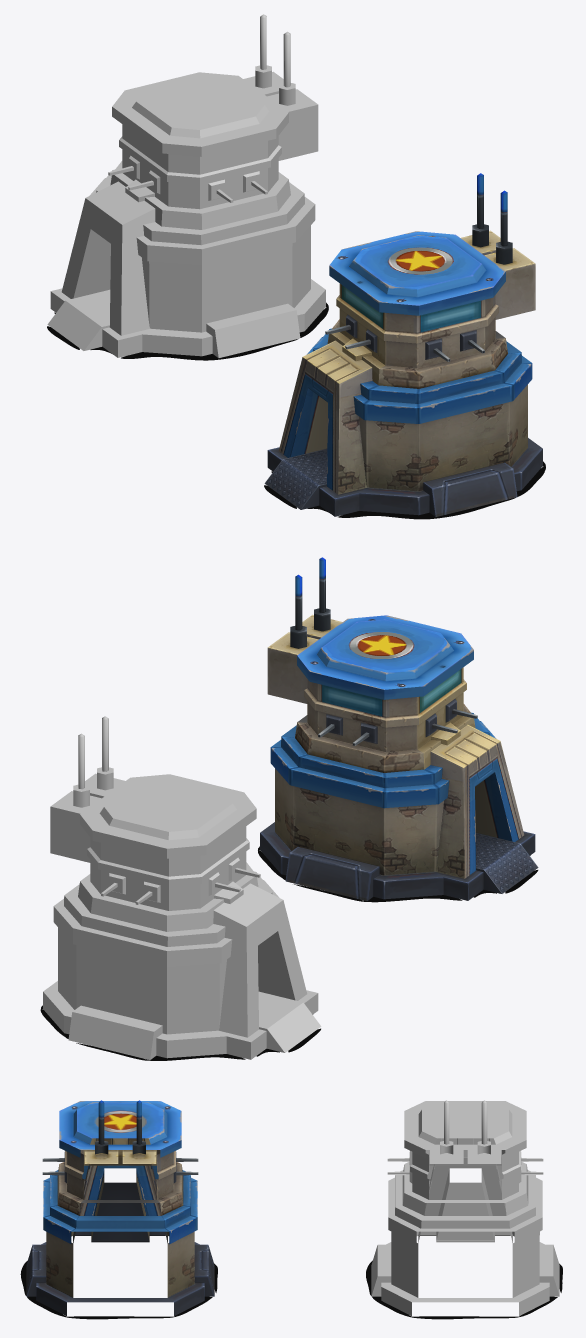
File: tower.fbx
The picture shows the model from 3 angles, top to bottom: view 1: azimuth 30°, elevation 25°; view 2: azimuth 150°, elevation 25°; view 3: azimuth 270°, elevation 25°; orthographic projection. The views are drawn at different scales.
Visible parts, largest first — view 1: tower_blue, tower_red; view 2: tower_blue, tower_red; view 3: tower_blue, tower_red.
Boxes of the visible parts, left/top/right/bottom form: tower_blue: left=264, top=173, right=545, bottom=519; tower_red: left=47, top=14, right=328, bottom=360; tower_blue: left=258, top=557, right=538, bottom=902; tower_red: left=40, top=716, right=321, bottom=1060; tower_blue: left=20, top=1100, right=217, bottom=1319; tower_red: left=366, top=1100, right=562, bottom=1319.
Size of the model in its own units: 7.16 by 6.7 by 16.15.
